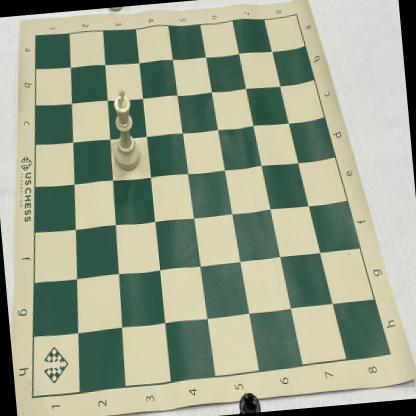king: (106, 86, 144, 174)
